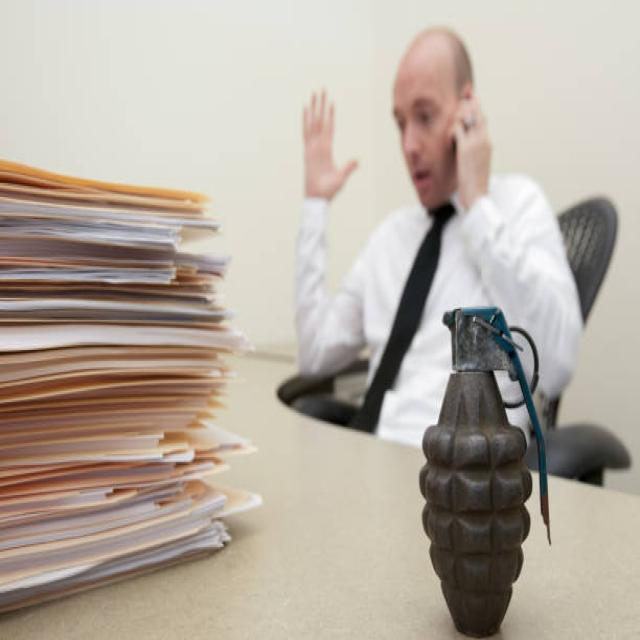grenade: (419, 305, 557, 634)
